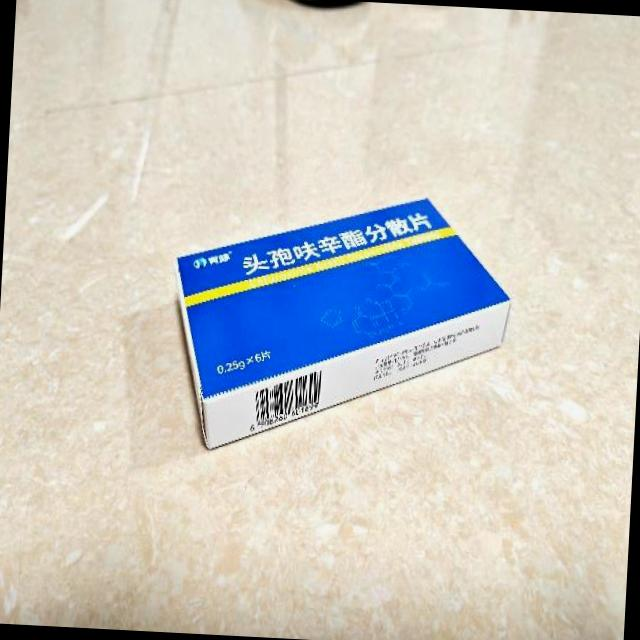box: (167, 184, 518, 462)
